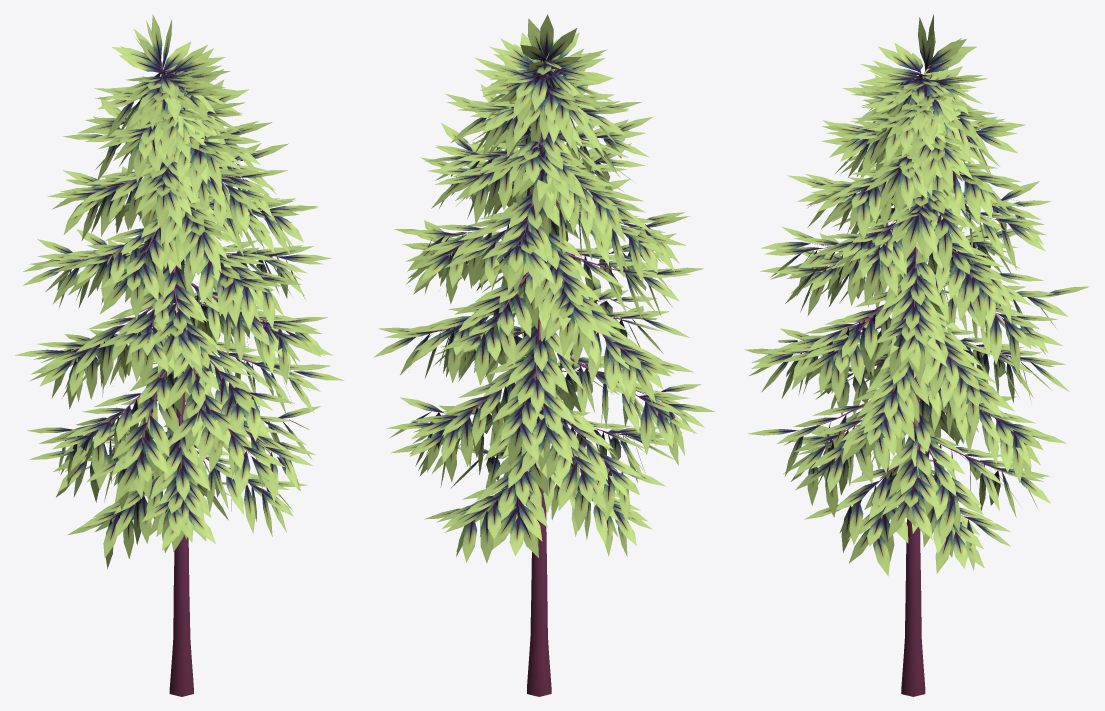
Rendered from Tree1.fbx.
3 views of the same model, side by side, from view 1: azimuth 30°, elevation 25°; view 2: azimuth 150°, elevation 25°; view 3: azimuth 270°, elevation 25° (orthographic). The views are drawn at different scales.
Visible parts, largest first — view 1: leaves.005, tree.005; view 2: leaves.005, tree.005; view 3: leaves.005, tree.005.
Boxes of the visible parts, box(x1,y1,x2,y2) form: leaves.005: box(15, 14, 344, 568); tree.005: box(71, 69, 290, 696); leaves.005: box(373, 14, 715, 563); tree.005: box(437, 63, 660, 696); leaves.005: box(744, 14, 1089, 576); tree.005: box(794, 71, 1010, 696).
Bounding box in the file's own units: 2229 × 4959 × 2333.
